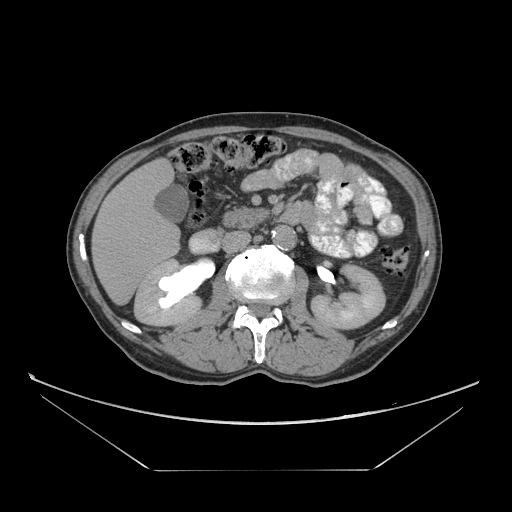left_kidney: (128, 255, 210, 325)
right_kidney: (308, 262, 386, 327)
